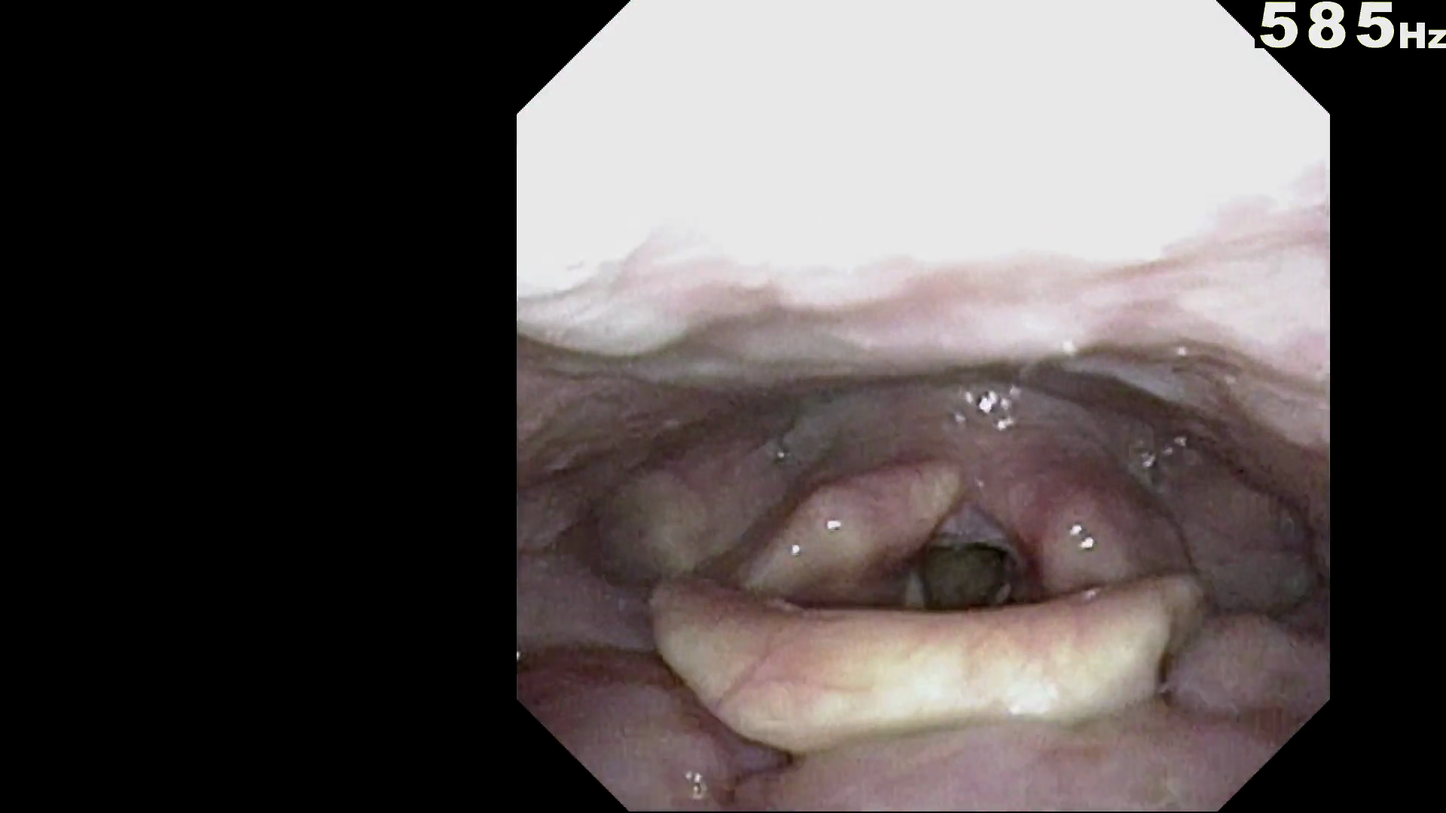epiglottis: (648, 595, 1189, 734)
trachea: (898, 533, 1026, 627)
